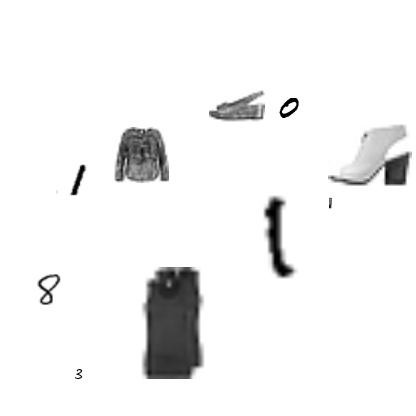0: (275, 93, 303, 121)
1: (217, 181, 329, 293), (56, 159, 98, 201)
3: (72, 367, 86, 381)
8: (27, 267, 69, 309)
Bag: (318, 196, 332, 210)
Sandal: (328, 113, 412, 197), (209, 77, 265, 133)
Shirt: (113, 127, 169, 183)
T-shirt/top: (115, 267, 227, 379)
